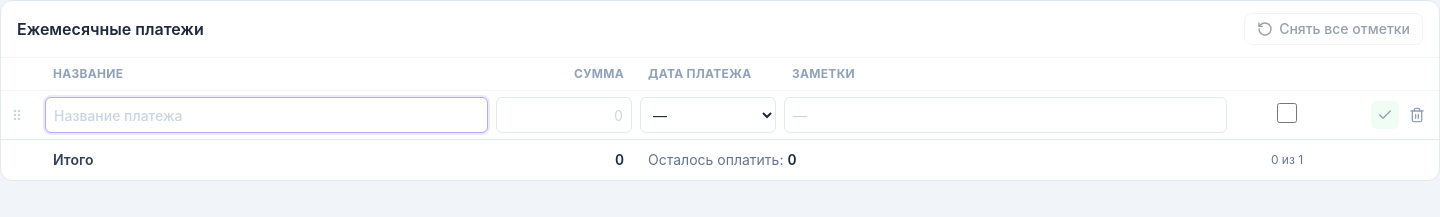
PaymentsTable › добавляет платёж, отмечает оплату и снимает все отметки
The image size is (1440, 217).
Type "Интернет" into the field labelled "Название".
click(266, 115); type("Интернет")  # box [45, 97, 488, 133]
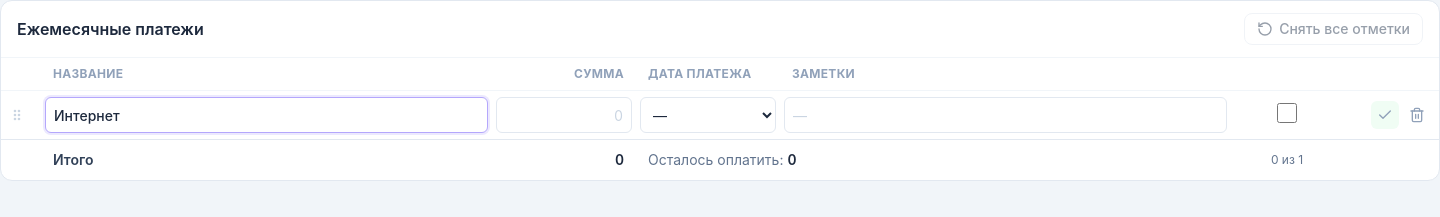
Type "1 500,5" into the field named "Сумма".
click(564, 115); type("1 500,5")  # box [496, 97, 632, 133]
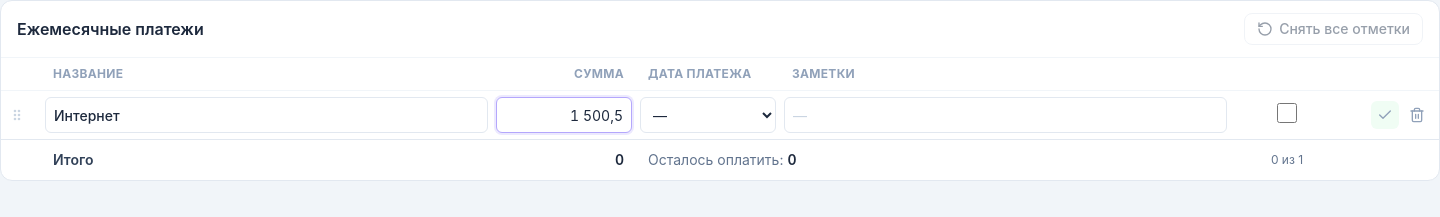
Click the button named "Сохранить".
click(1385, 115)  # box [1371, 101, 1399, 129]
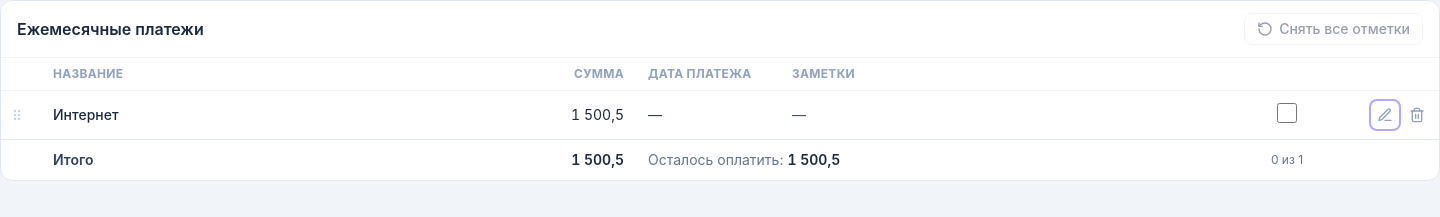
Click the checkbox named "Оплачено".
click(1287, 112)  # box [1277, 102, 1297, 122]
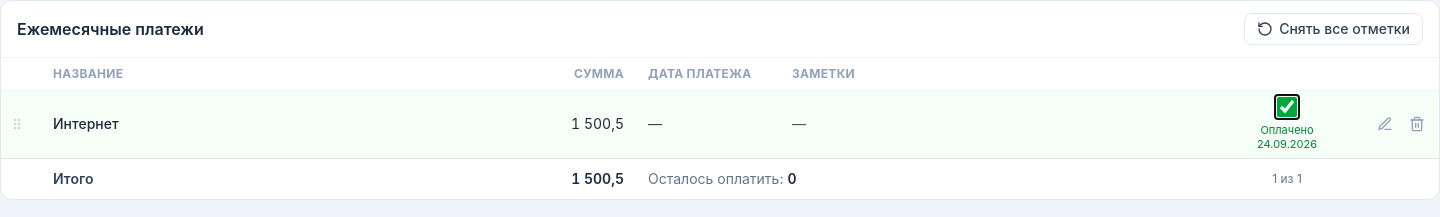
Result: the text "Оплачено24.09.2026" is shown at [1257, 123, 1317, 151]
Click the button "Снять все отметки".
click(1334, 29)  # box [1244, 13, 1423, 45]
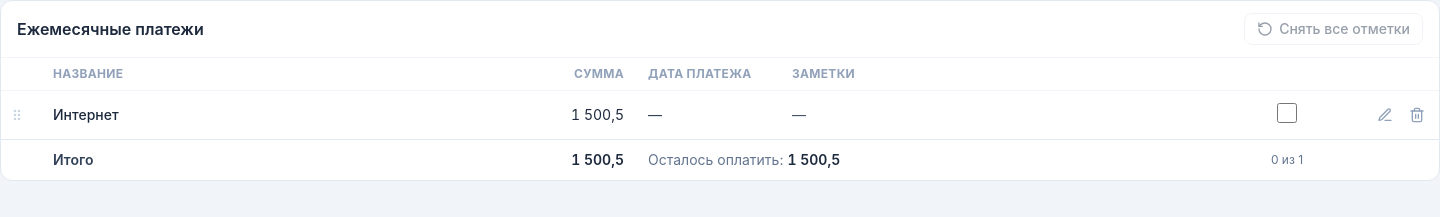
Result: the checkbox named "Оплачено" is not checked at [1277, 102, 1297, 122]
Result: the text "Оплачено" is gone
